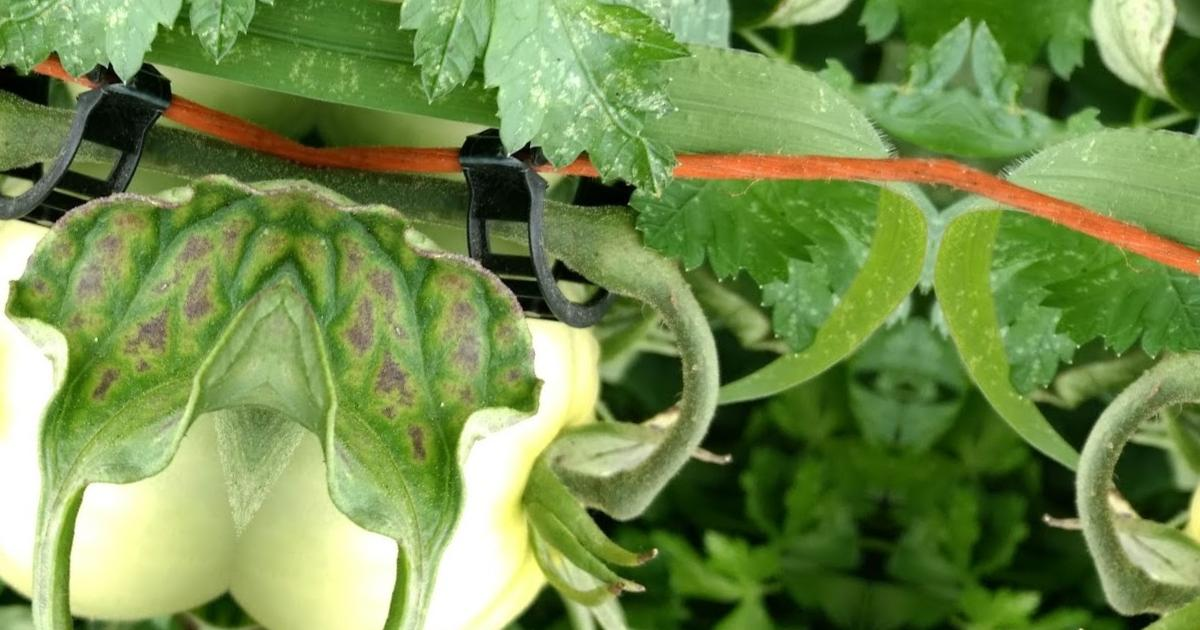Tomato leaf mosaic virus: (341, 0, 750, 193)
